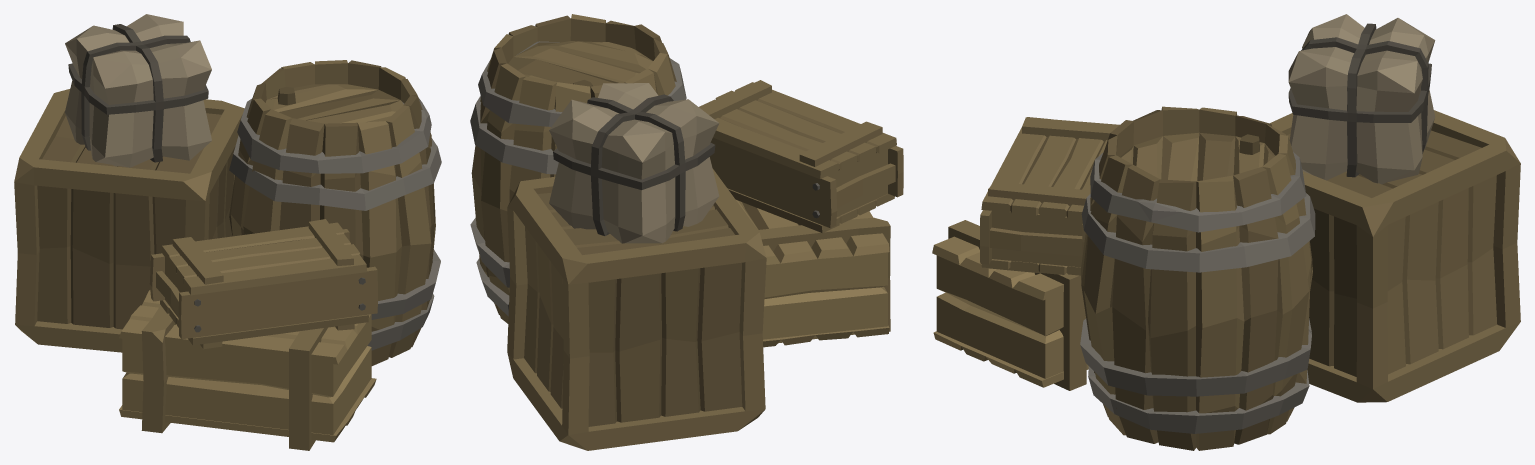
The model's file is Stack_6.fbx.
3 views of the same model, side by side, from view 1: azimuth 30°, elevation 25°; view 2: azimuth 150°, elevation 25°; view 3: azimuth 270°, elevation 25° (orthographic). The views are drawn at different scales.
Visible parts, largest first — view 1: Stack_6; view 2: Stack_6; view 3: Stack_6.
Part boxes in pixels (x1,y1,x2,y2): Stack_6: (14, 14, 441, 450); Stack_6: (470, 14, 903, 450); Stack_6: (932, 14, 1520, 450).
Bounding box in the file's own units: 139 × 106 × 183.
